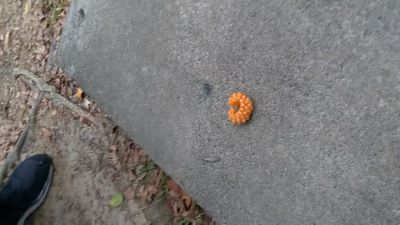eggs: (226, 91, 255, 128)
